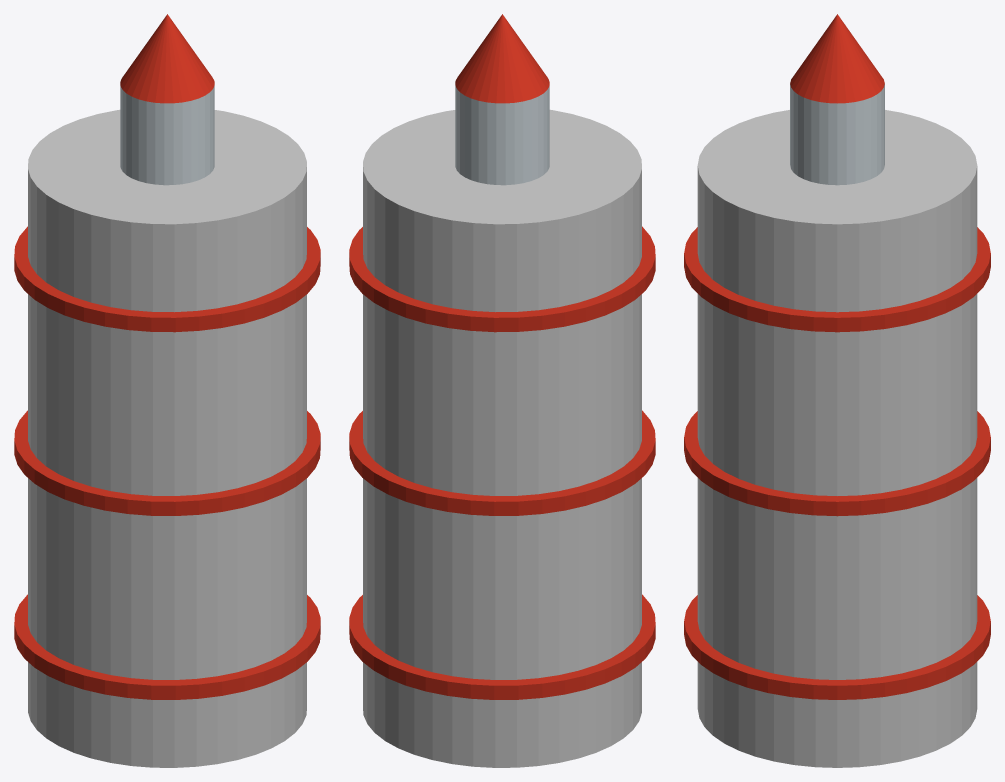
The model's file is slbm_tube.obj.
3 views of the same model, side by side, from view 1: azimuth 30°, elevation 25°; view 2: azimuth 150°, elevation 25°; view 3: azimuth 270°, elevation 25° (orthographic).
Visible parts, largest first — view 1: slbm_tube; view 2: slbm_tube; view 3: slbm_tube.
Part boxes in pixels (left/top/right/bottom): slbm_tube: left=14, top=14, right=320, bottom=767; slbm_tube: left=349, top=14, right=655, bottom=767; slbm_tube: left=684, top=14, right=990, bottom=767.
Size of the model in its own units: 0.68 by 1.7 by 0.68.
